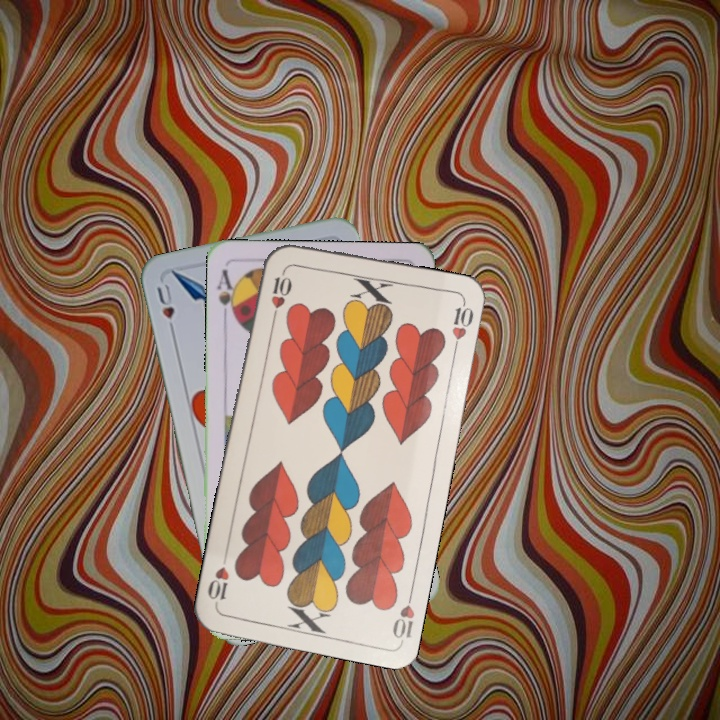H10: (388, 585, 417, 644), (267, 265, 292, 324)
HU: (153, 280, 178, 338)
SA: (213, 265, 240, 323)
